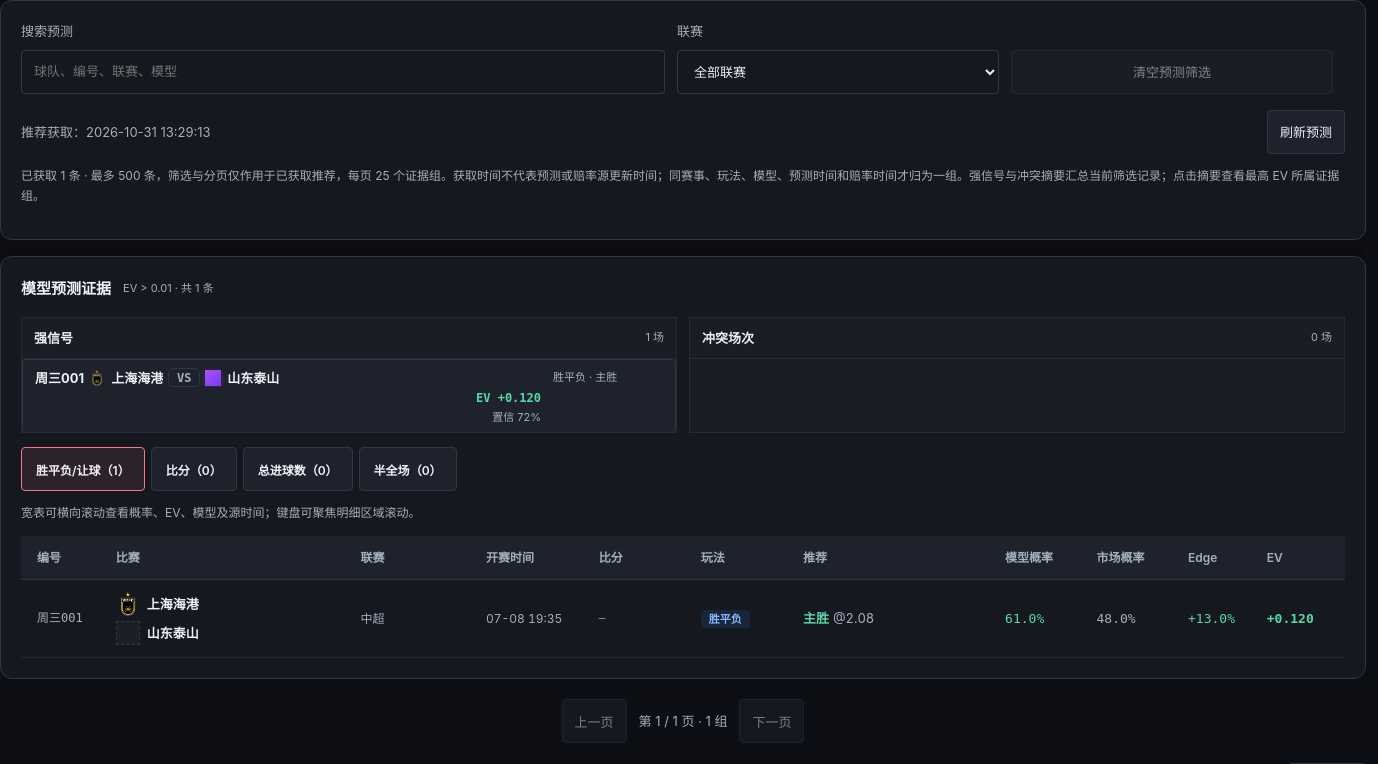
预测独立资源与证据分组 › 刷新失败保留预测并提示
Expected: the element named "上海海港 VS 山东泰山" is shown, [116,592,199,645]
Click the button "刷新预测" at (1306, 132), box [1267,110,1345,154]
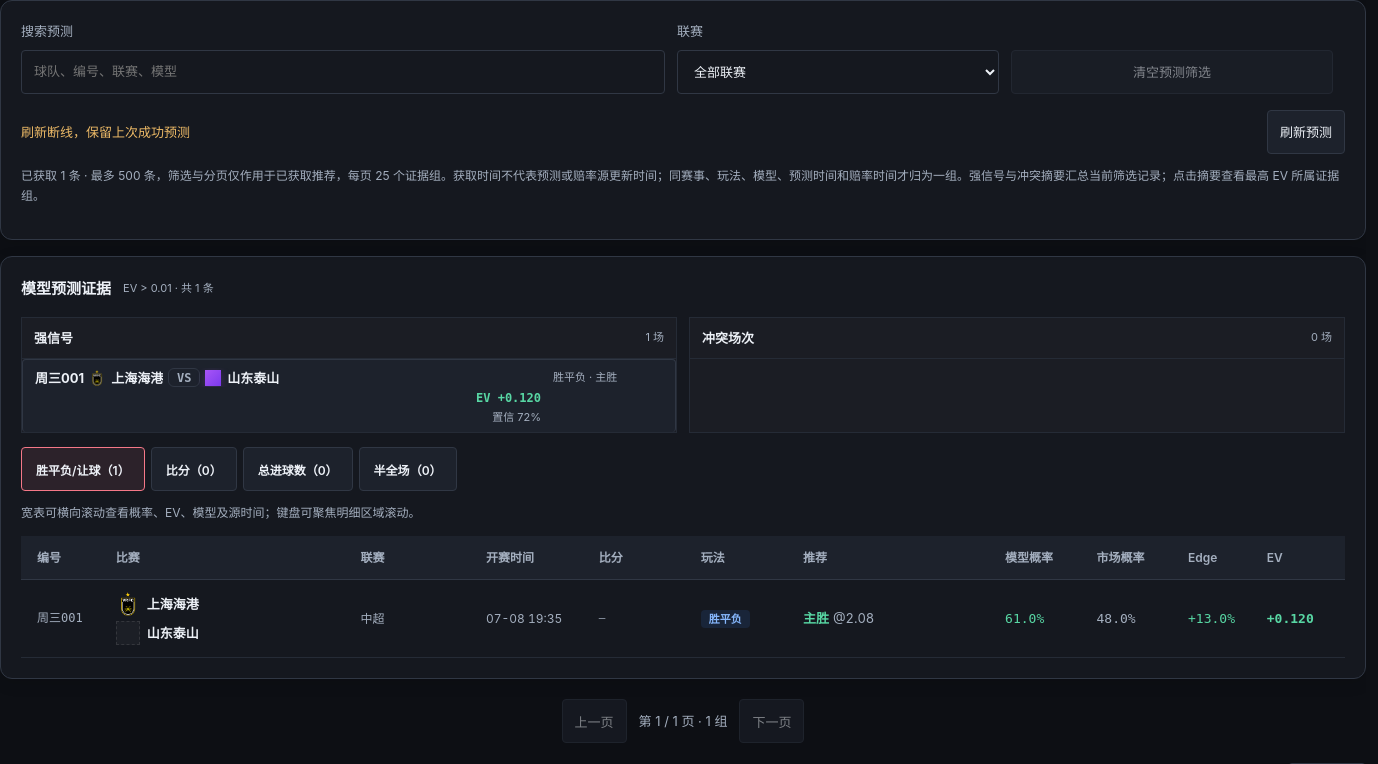
Expected: the element named "上海海港 VS 山东泰山" is shown, [116,592,199,645]
Expected: the text "刷新断线，保留上次成功预测" is shown, [21,124,190,140]
